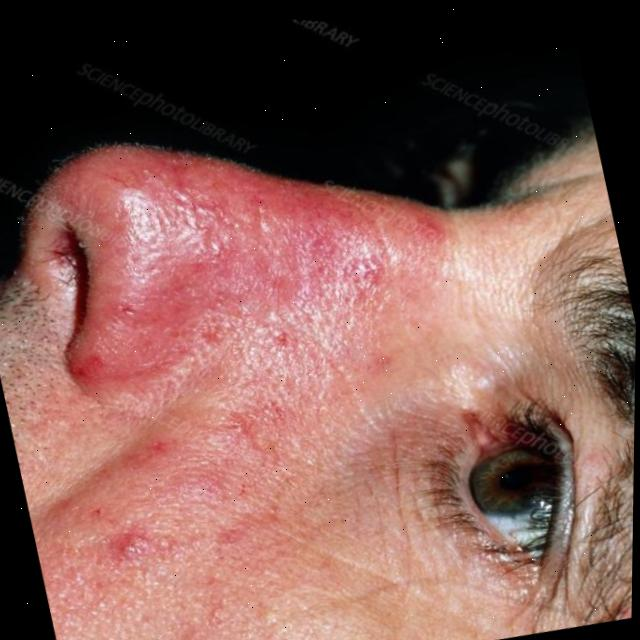Rosacea: (73, 100, 464, 454)
